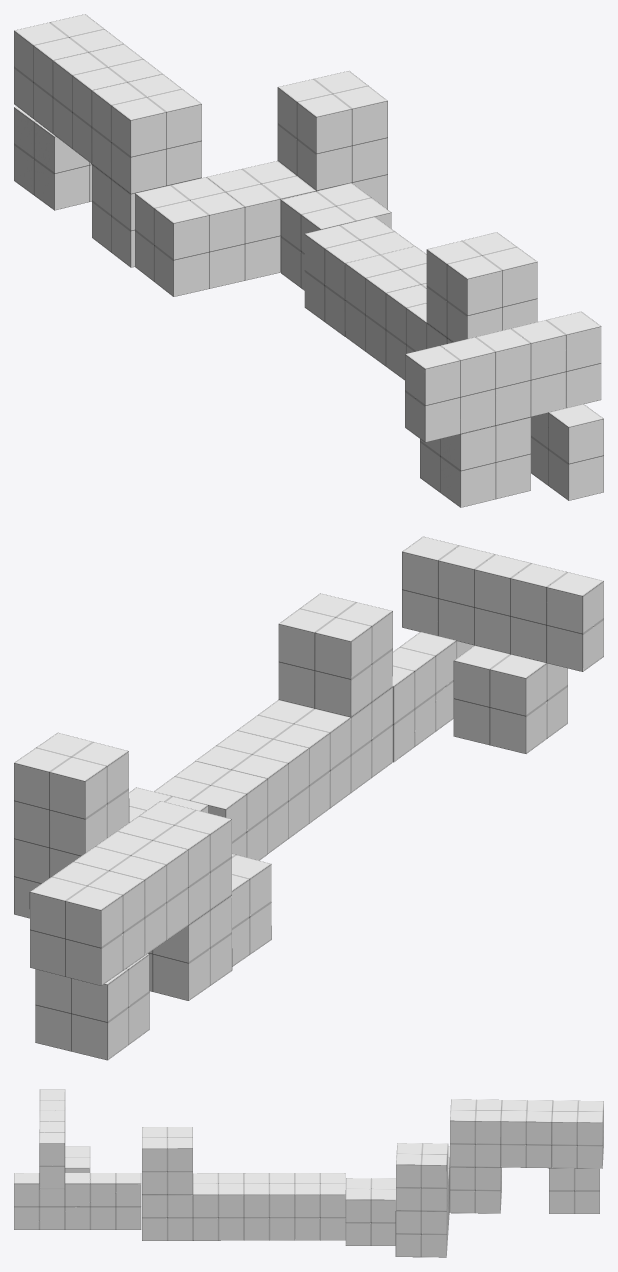
3 renders of one model, top to bottom at view 1: azimuth 30°, elevation 25°; view 2: azimuth 150°, elevation 25°; view 3: azimuth 270°, elevation 25°, orthographic. The views are drawn at different scales.
Visible parts, largest first — view 1: GridBigLShape_0:1, GridBigLShape_0, GridBigLShape_0:2, GridPlank_0, Plane/BasicEnvironment/StartCube-1, GridPlank_0:1, GridCube_0:1, Plane/BasicEnvironment/StartCube-2, GridCube_0; view 2: GridBigLShape_0, GridBigLShape_0:2, GridPlank_0, GridBigLShape_0:1, Plane/BasicEnvironment/StartCube-1, Plane/BasicEnvironment/StartCube-2, GridPlank_0:1, GridCube_0:1, GridCube_0; view 3: GridBigLShape_0, GridBigLShape_0:2, GridPlank_0:1, GridBigLShape_0:1, GridCube_0:1, GridCube_0, GridPlank_0, Plane/BasicEnvironment/StartCube-2, Plane/BasicEnvironment/StartCube-1.
Boxes of the visible parts, x1,y1,x2,y2 form: GridBigLShape_0:1: [135, 71, 387, 296]; GridBigLShape_0: [14, 14, 201, 267]; GridBigLShape_0:2: [345, 232, 537, 380]; GridPlank_0: [405, 311, 601, 442]; Plane/BasicEnvironment/StartCube-1: [420, 417, 530, 507]; GridPlank_0:1: [531, 404, 603, 500]; GridCube_0:1: [304, 216, 414, 336]; Plane/BasicEnvironment/StartCube-2: [14, 106, 91, 210]; GridCube_0: [281, 183, 391, 290]; GridBigLShape_0: [29, 801, 232, 1000]; GridBigLShape_0:2: [195, 593, 392, 853]; GridPlank_0: [402, 536, 603, 671]; GridBigLShape_0:1: [14, 732, 271, 966]; Plane/BasicEnvironment/StartCube-1: [453, 645, 567, 753]; Plane/BasicEnvironment/StartCube-2: [35, 953, 149, 1060]; GridPlank_0:1: [392, 632, 473, 762]; GridCube_0:1: [154, 761, 267, 860]; GridCube_0: [129, 787, 208, 822]; GridBigLShape_0: [449, 1099, 603, 1213]; GridBigLShape_0:2: [142, 1127, 294, 1240]; GridPlank_0:1: [14, 1173, 141, 1229]; GridBigLShape_0:1: [395, 1143, 449, 1257]; GridCube_0:1: [295, 1173, 345, 1240]; GridCube_0: [345, 1178, 395, 1245]; GridPlank_0: [39, 1089, 65, 1189]; Plane/BasicEnvironment/StartCube-2: [549, 1168, 599, 1213]; Plane/BasicEnvironment/StartCube-1: [65, 1146, 90, 1172].
Bounding box in the file's own units: 0.706 × 0.4015 × 2.32.
